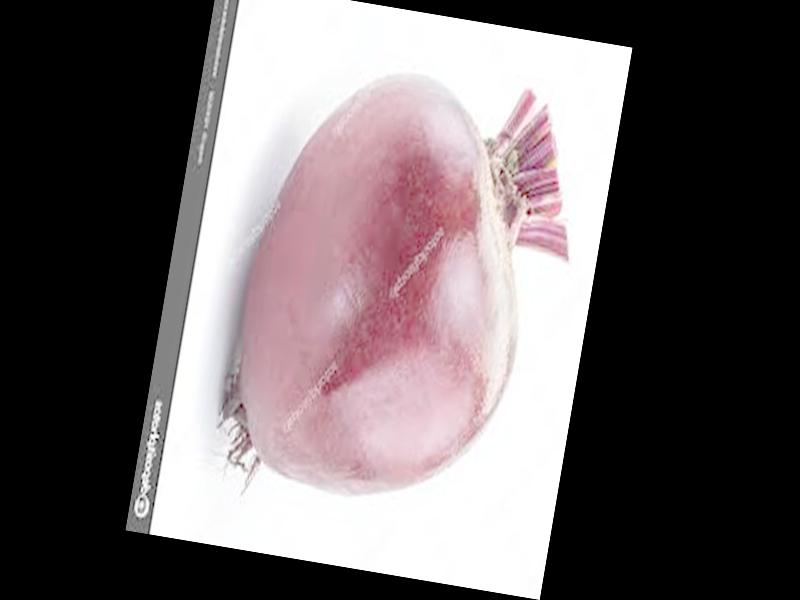Beet: (214, 51, 591, 522)
